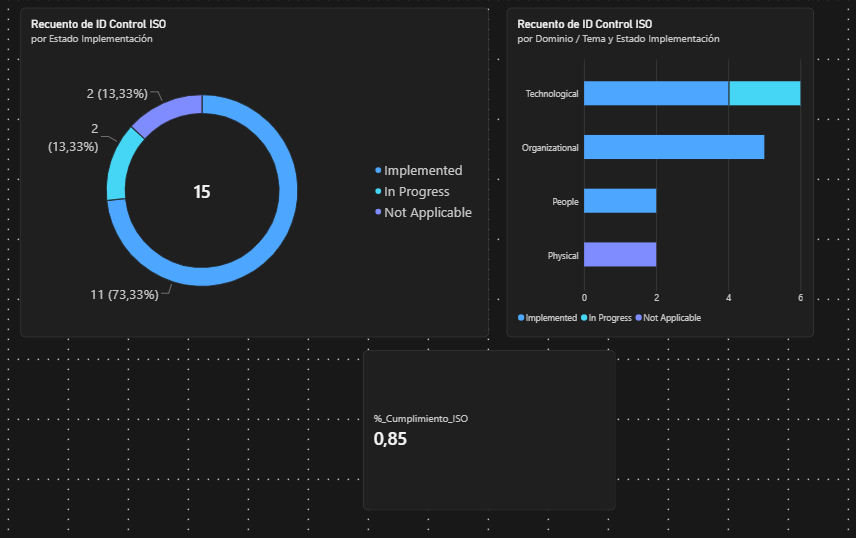

The dashboard page shown, as its layout file describes it:
{"tool":"powerbi","page":{"name":"Página 1","canvas":[1920,1080],"ordinal":0},"visuals":[{"type":"cardVisual","fields":{"Data":["Statement_of_Applicability.%_Cumplimiento_ISO"]},"box":[106.4,35.5,404.9,256.7],"z":0},{"type":"donutChart","fields":{"Category":["Statement_of_Applicability.Estado Implementación"],"Y":["CountNonNull(Statement_of_Applicability.ID Control ISO)"]},"box":[585.4,14,749.3,526.8],"z":1},{"type":"barChart","fields":{"Category":["Statement_of_Applicability.Dominio / Tema"],"Series":["Statement_of_Applicability.Estado Implementación"],"Y":["CountNonNull(Statement_of_Applicability.ID Control ISO)"]},"box":[1429,33,491,527],"z":2}]}

Visuals, with their boxes on the page's 1920x1080 design canvas (x1, y1, x2, y2). These are canvas units, not pixel positions in the 856x538 screenshot, which may show the page scaled, cropped or inside an application window:
cardVisual - Statement_of_Applicability.%_Cumplimiento_ISO: pyautogui.locateOnScreen(106, 36, 511, 292)
donutChart - Statement_of_Applicability.Estado Implementación x CountNonNull(Statement_of_Applicability.ID Control ISO): pyautogui.locateOnScreen(585, 14, 1335, 541)
barChart - Statement_of_Applicability.Dominio / Tema x Statement_of_Applicability.Estado Implementación: pyautogui.locateOnScreen(1429, 33, 1920, 560)
